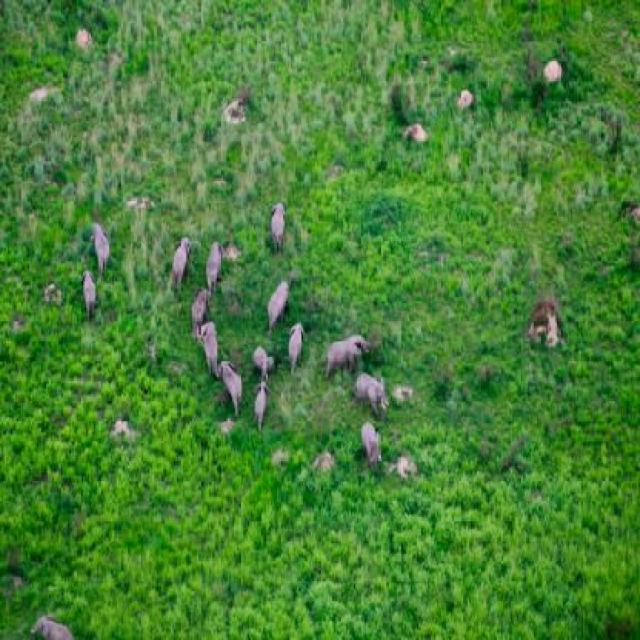elephant: (321, 321, 374, 385), (197, 298, 229, 376), (252, 192, 291, 254), (30, 592, 72, 640), (89, 212, 128, 262), (278, 319, 308, 383), (352, 424, 383, 482), (259, 269, 290, 325), (183, 281, 211, 337), (69, 267, 105, 310), (244, 373, 267, 436), (222, 353, 245, 410), (165, 226, 186, 282), (248, 334, 274, 377), (350, 377, 382, 411), (200, 236, 220, 284)
